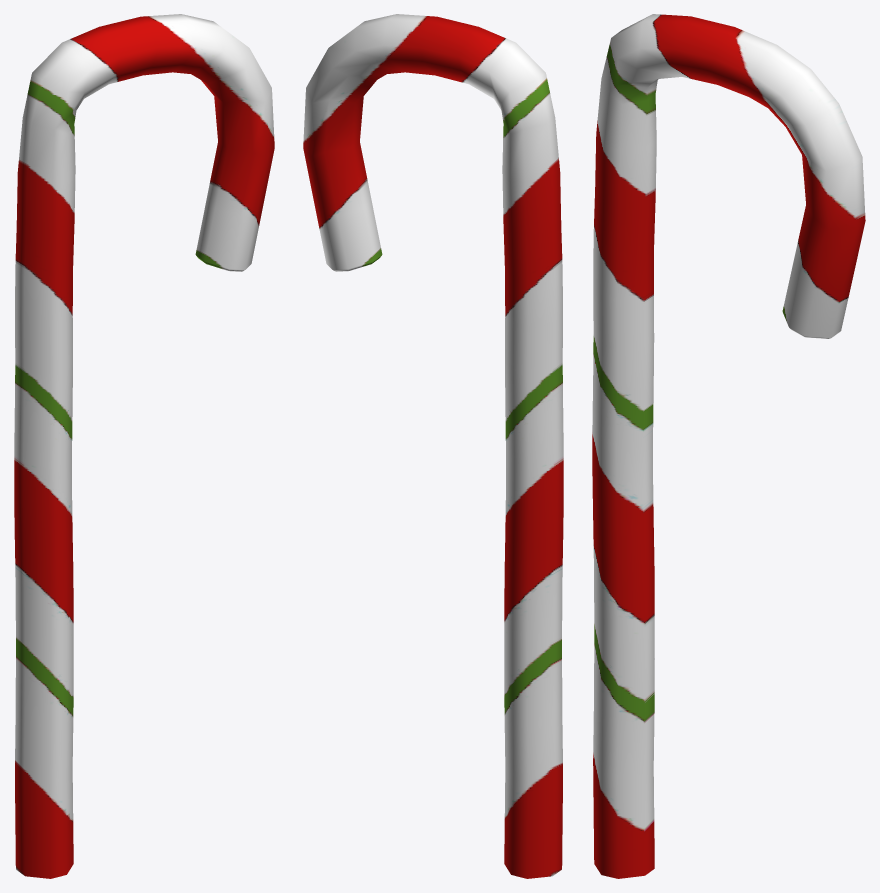
File: candyCane.fbx
The picture shows the model from 3 angles, left to right: view 1: azimuth 30°, elevation 25°; view 2: azimuth 150°, elevation 25°; view 3: azimuth 330°, elevation 25°; orthographic projection. The views are drawn at different scales.
Parts seen in each view (by area): view 1: pCube1; view 2: pCube1; view 3: pCube1.
Part boxes in pixels (<box>): pCube1: <box>14,14,274,878</box>; pCube1: <box>303,14,563,878</box>; pCube1: <box>592,14,865,878</box>.
Size of the model in its own units: 3.6 by 11.27 by 0.7436.
